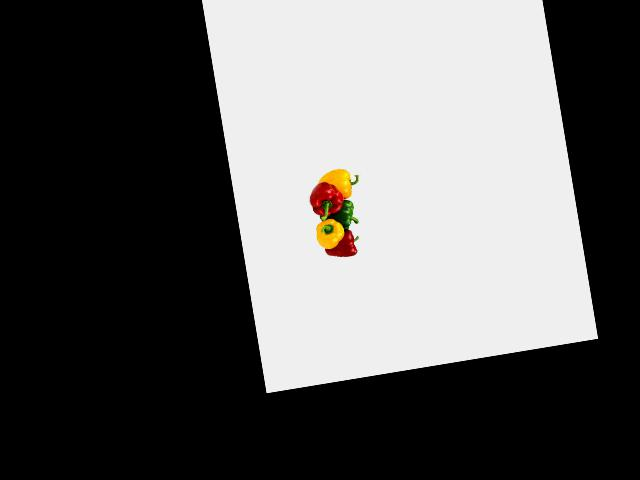bell_pepper: (326, 228, 362, 261)
